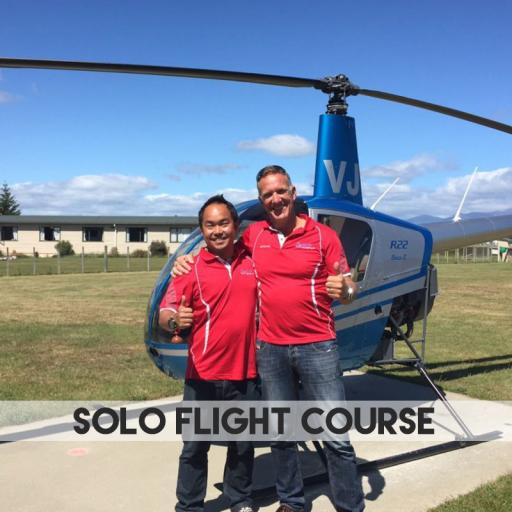helicopter: (2, 56, 512, 495)
